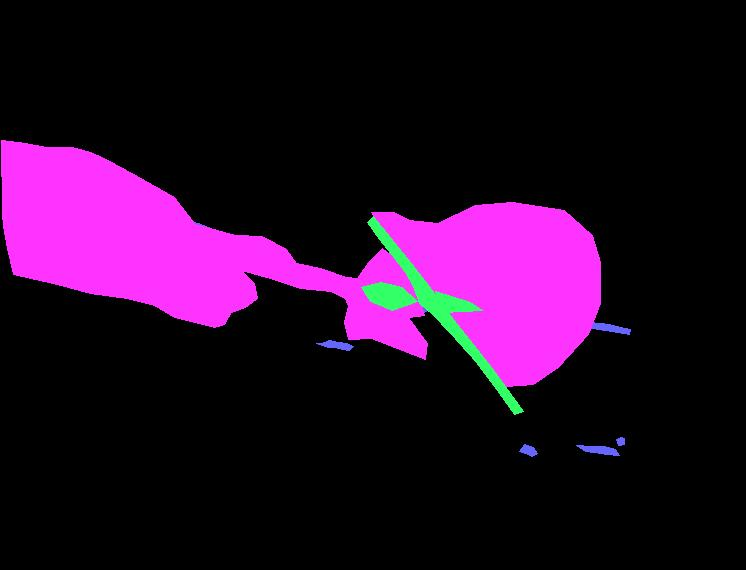Broken part: (367, 216, 523, 414), (361, 282, 417, 310), (435, 291, 482, 312)
Dent: (1, 140, 427, 359), (371, 202, 600, 386)
Scratch: (5, 211, 430, 314), (422, 276, 630, 334), (576, 445, 619, 455), (316, 340, 353, 350), (519, 444, 537, 456), (616, 437, 624, 445)
